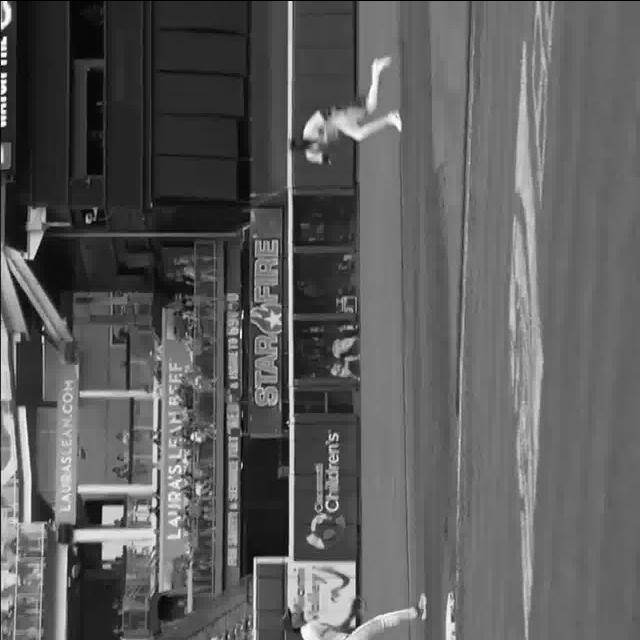base: (444, 584, 457, 640)
baseball_glove: (350, 594, 368, 615), (330, 105, 346, 118)
shoe: (367, 52, 394, 81), (388, 97, 404, 135), (414, 585, 431, 618)
